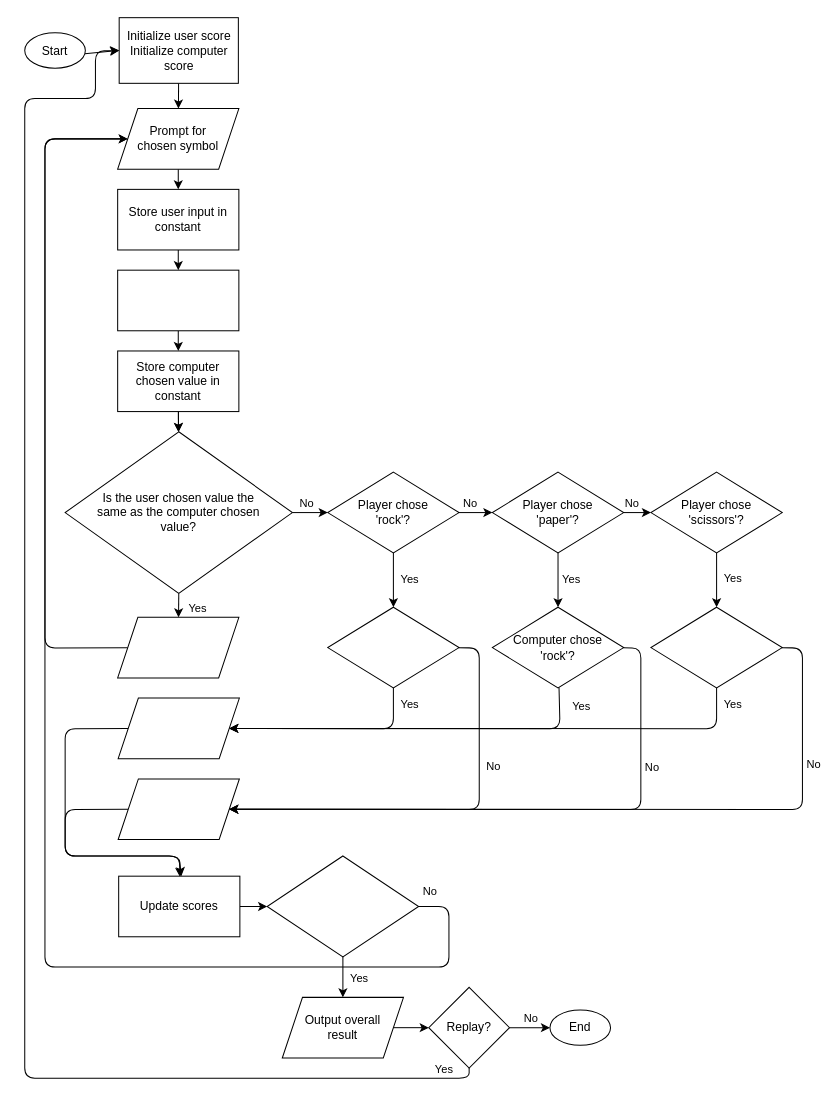
This 837x1104 diagram has some shape labels left out. The box of each missing label's shape, as (x1, y1, x2, y2) in pixels:
Computer chose 'paper'?: (650, 606, 782, 688)
Computer chose 'scissors'?: (327, 606, 459, 688)
Generate computer chosen value: (117, 269, 239, 331)
Output lose: (117, 778, 239, 840)
Output tie: (117, 616, 239, 678)
Output win: (117, 697, 239, 759)
User score = 5? Computer score = 5?: (266, 855, 419, 957)
